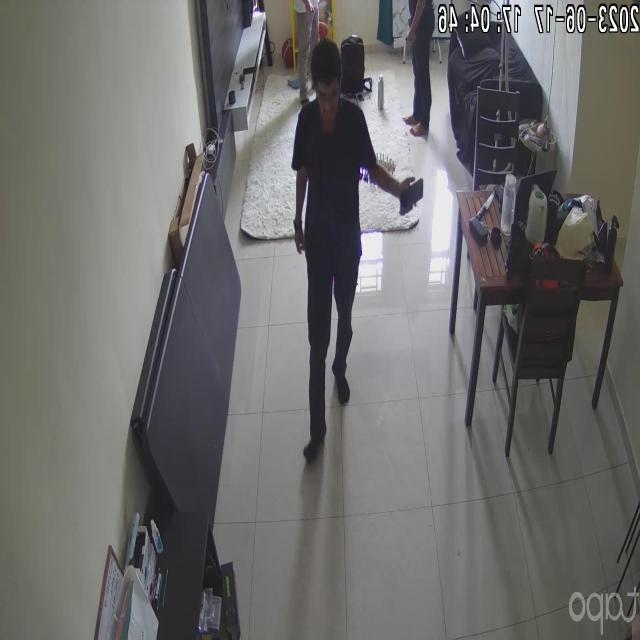Knife: (463, 187, 495, 219)
